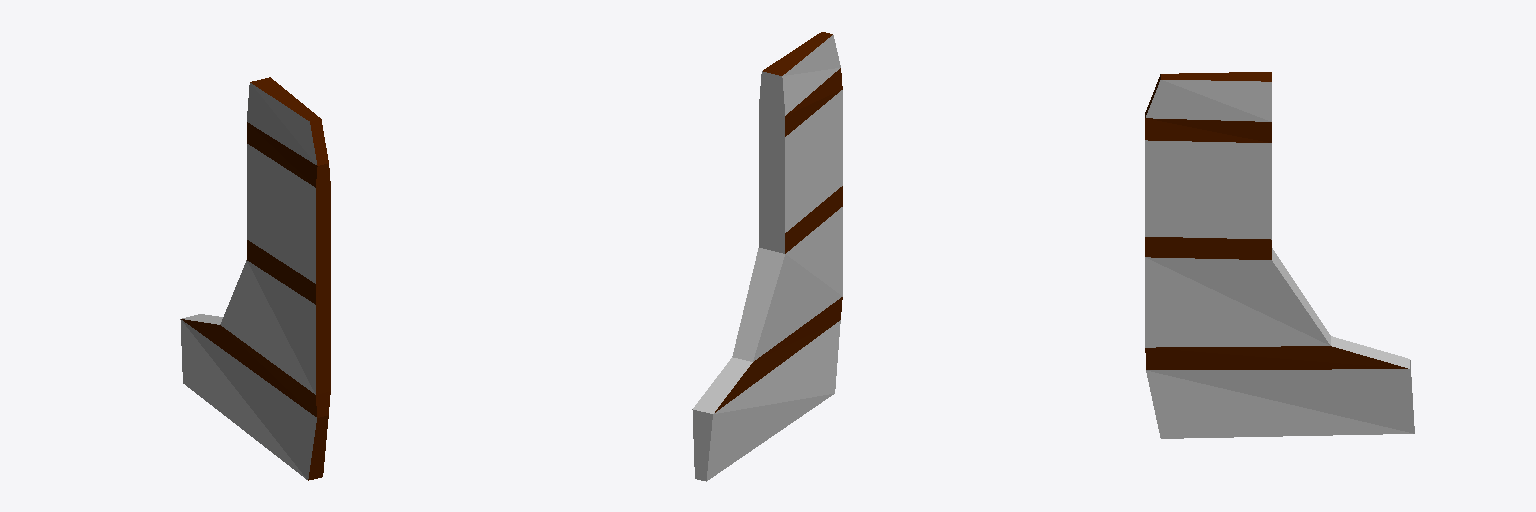
File: flap.obj
3 views of the same model, side by side, from view 1: azimuth 30°, elevation 25°; view 2: azimuth 150°, elevation 25°; view 3: azimuth 270°, elevation 25° (orthographic).
Visible parts, largest first — view 1: Cube; view 2: Cube; view 3: Cube.
Boxes of the visible parts, x1,y1,x2,y2 form: Cube: [180, 77, 330, 480]; Cube: [692, 32, 842, 481]; Cube: [1145, 72, 1414, 438].
Size of the model in its own units: 0.1289 by 1.65 by 1.12.